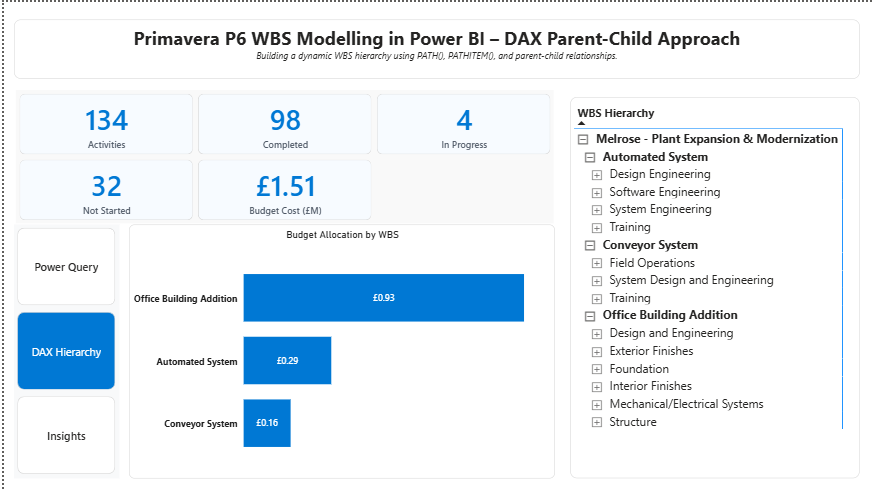

The page's visual inventory and layout, read from the dashboard file:
{"tool":"powerbi","page":{"name":"DAX Hierarchy","canvas":[1280,720],"ordinal":1},"visuals":[{"type":"pivotTable","fields":{"Rows":["Dim_WBS_DAX.Level 1 Name Hierarchy.Level 1 Name","Dim_WBS_DAX.Level 1 Name Hierarchy.Level 2 Name","Dim_WBS_DAX.Level 1 Name Hierarchy.Level 3 Name","Dim_WBS_DAX.Level 1 Name Hierarchy.Level 4 Name Final"]},"box":[832.9,140.6,425.4,560.6],"z":1000},{"type":"textbox","box":[14.2,24.9,1244.1,87.2],"z":2000},{"type":"pageNavigator","box":[14.2,327.5,154.8,373.8],"z":4000},{"type":"cardVisual","fields":{"Data":["Fact_Activities.Activities Count","Fact_Activities.Completed Activities","Fact_Activities.In Progress Activities","Fact_Activities.Not Started Activities","Fact_Activities.Total Budgeted Cost"]},"box":[16,128.1,793.8,199.3],"z":4001},{"type":"clusteredBarChart","title":"Budget Allocation by WBS","fields":{"Category":["Dim_WBS_DAX.Level 1 Name Hierarchy.Level 1 Name","Dim_WBS_DAX.Level 1 Name Hierarchy.Level 2 Name","Dim_WBS_DAX.Level 1 Name Hierarchy.Level 3 Name","Dim_WBS_DAX.Level 1 Name Hierarchy.Level 4 Name Final"],"Y":["Fact_Activities.Total Budgeted Cost"]},"box":[183.3,327.5,626.5,373.8],"z":4002}]}

Visuals, with their boxes in screenshot pixels (x1, y1, x2, y2), scaled from the page's 1280x720 canvas onto the 872x491 screenshot:
pivotTable - Dim_WBS_DAX.Level 1 Name Hierarchy.Level 1 Name x Dim_WBS_DAX.Level 1 Name Hierarchy.Level 2 Name: 567/96/857/478
textbox: 10/17/857/76
pageNavigator: 10/223/115/478
cardVisual - Fact_Activities.Activities Count x Fact_Activities.Completed Activities: 11/87/552/223
"Budget Allocation by WBS" clusteredBarChart: 125/223/552/478
